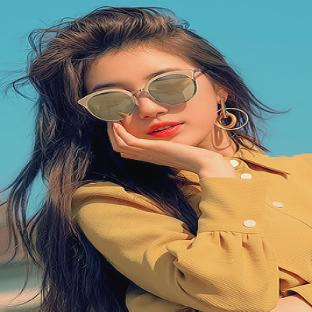Human: (6, 7, 311, 311)
